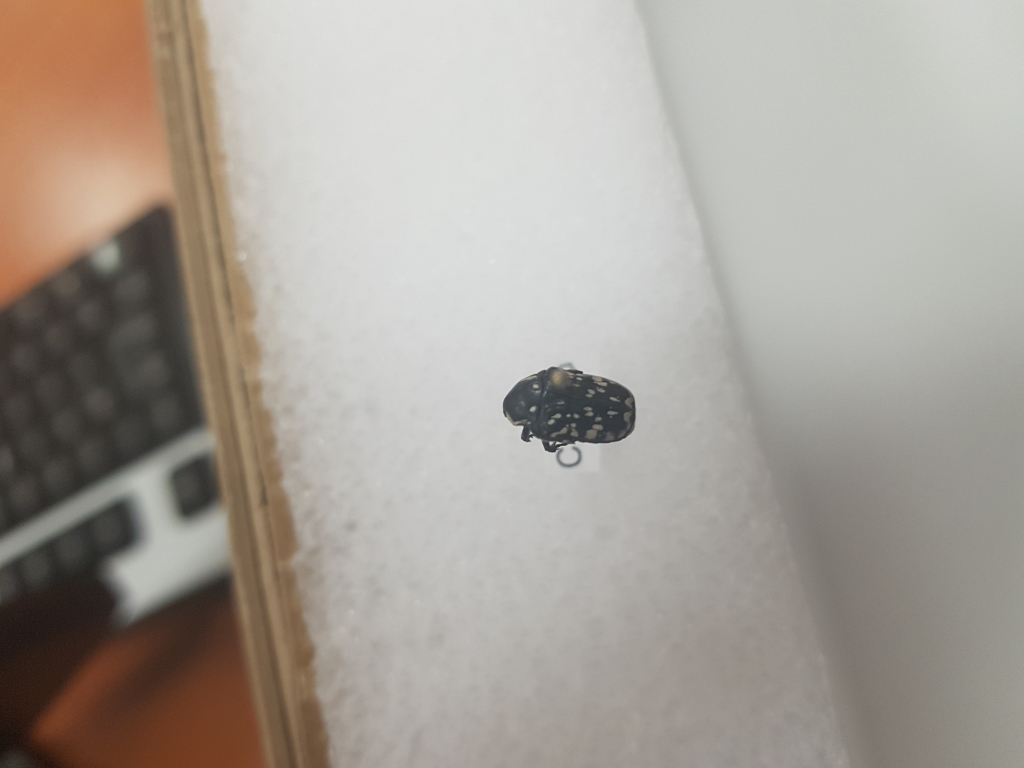Oxythyrea_albopicta: (495, 364, 651, 455)
